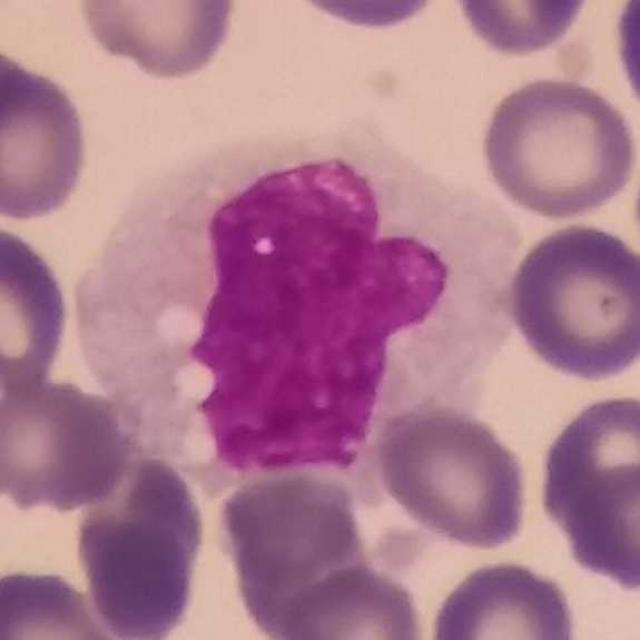Monocyte: (68, 121, 530, 483)
RBC: (69, 446, 209, 640), (371, 402, 534, 553), (476, 72, 640, 220), (501, 217, 639, 385), (533, 388, 640, 594), (212, 464, 368, 592), (0, 373, 136, 516), (0, 43, 95, 225), (72, 0, 243, 85), (0, 216, 76, 405), (424, 555, 582, 640), (266, 562, 431, 640), (0, 562, 136, 640), (446, 0, 594, 60), (278, 0, 451, 35), (606, 0, 640, 129)
